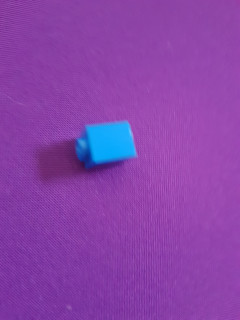1x1 blue: (72, 118, 139, 173)
